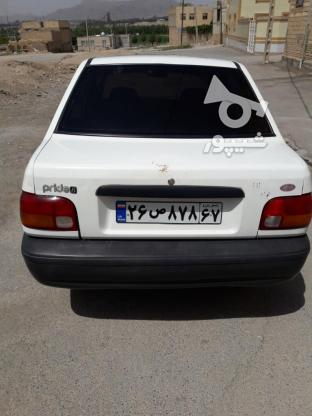car: (114, 199, 221, 225)
